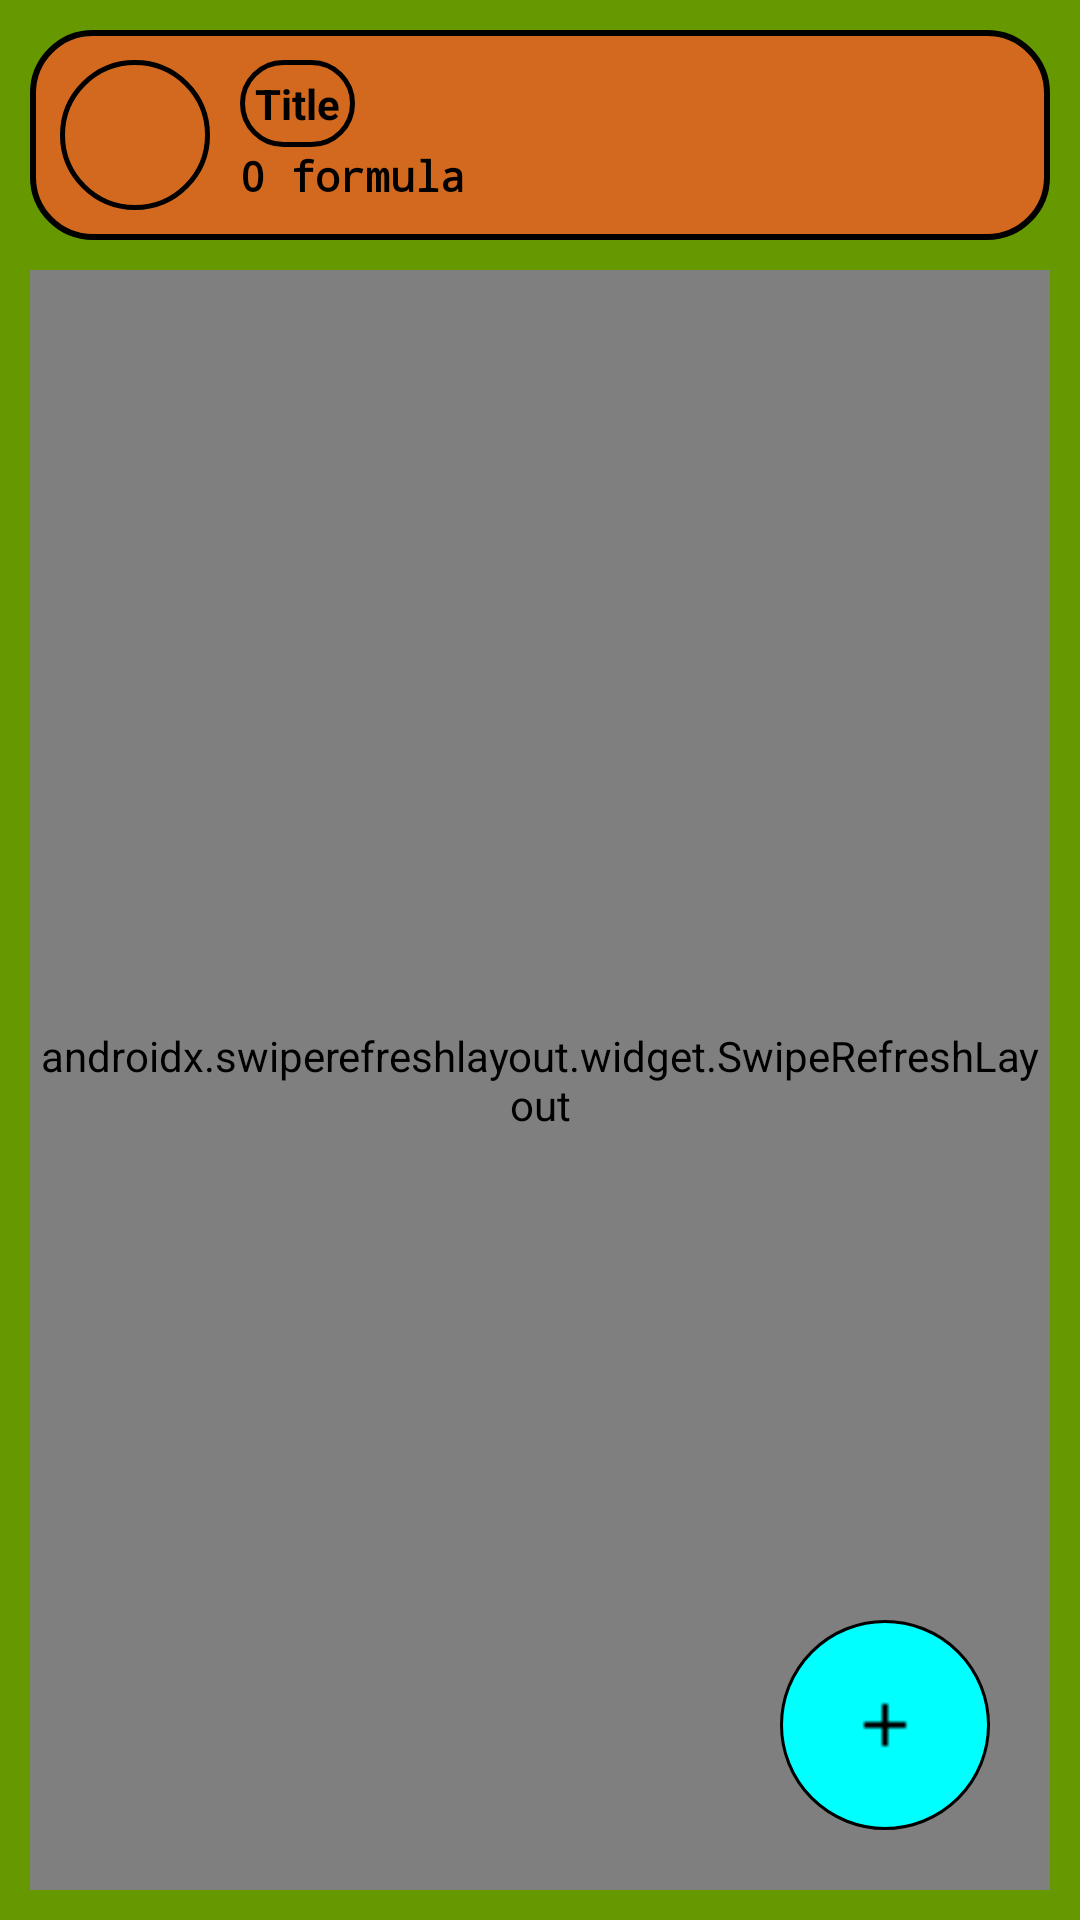

Point at icon controls on the screen. Image size 1080*1920, points as [x,y].
plus: [885,1725]
